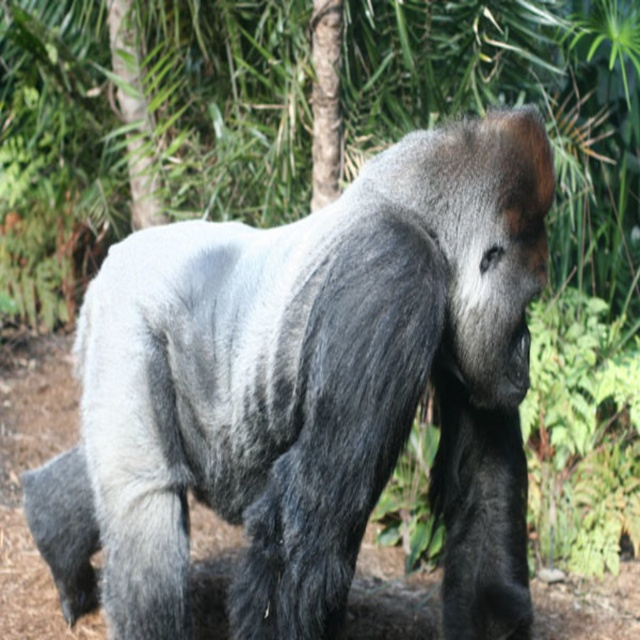Monkey: (19, 101, 554, 638)
